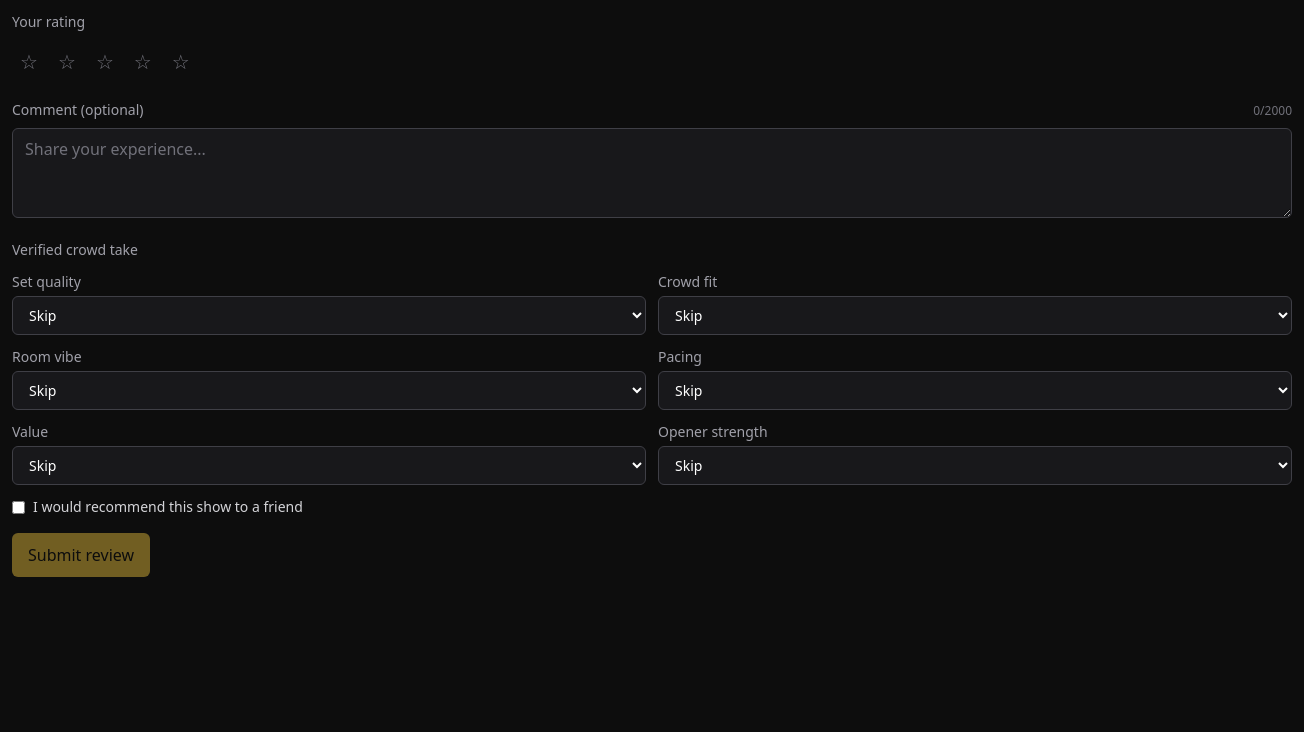
it: EventRatingForm › shows error on API failure
The width and height of the screenshot is (1304, 732).
Click the button named "Rate 3 out of 5" at (105, 62), box [88,40,122,84]
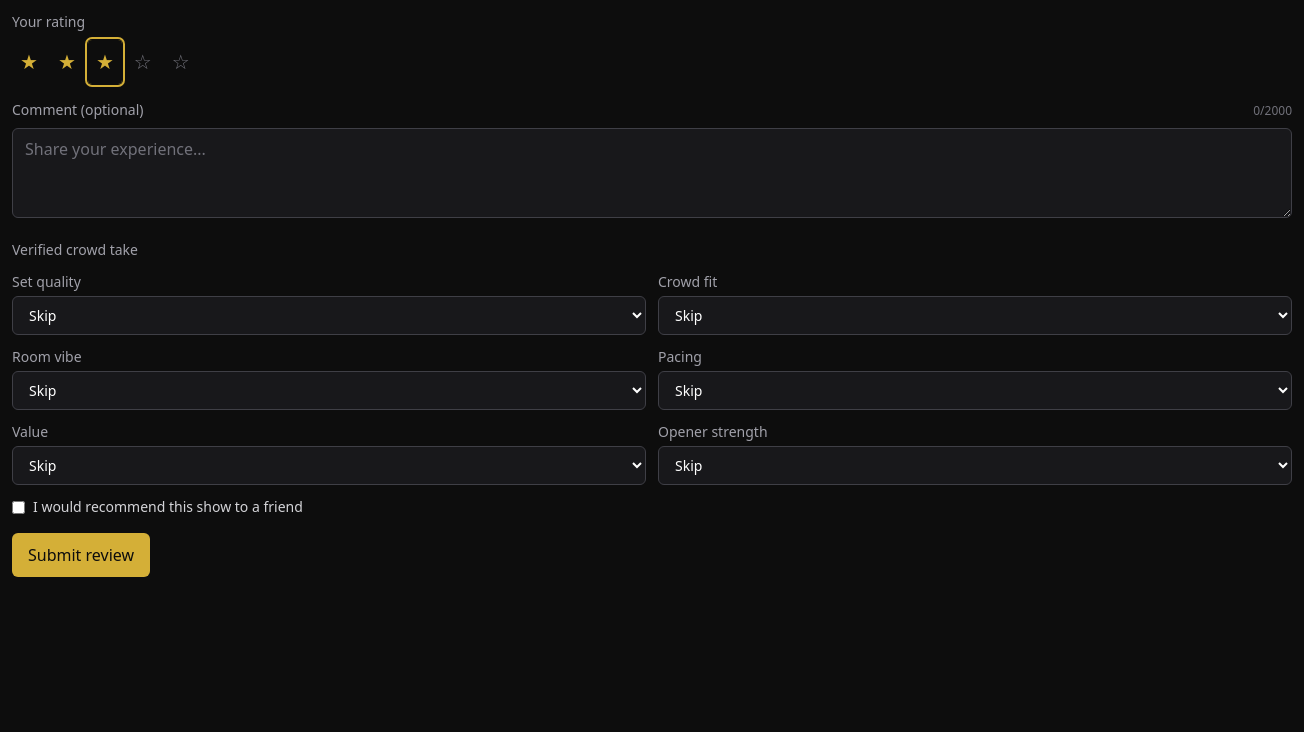
Click the button "Submit review" at (81, 555), box [12,533,150,577]
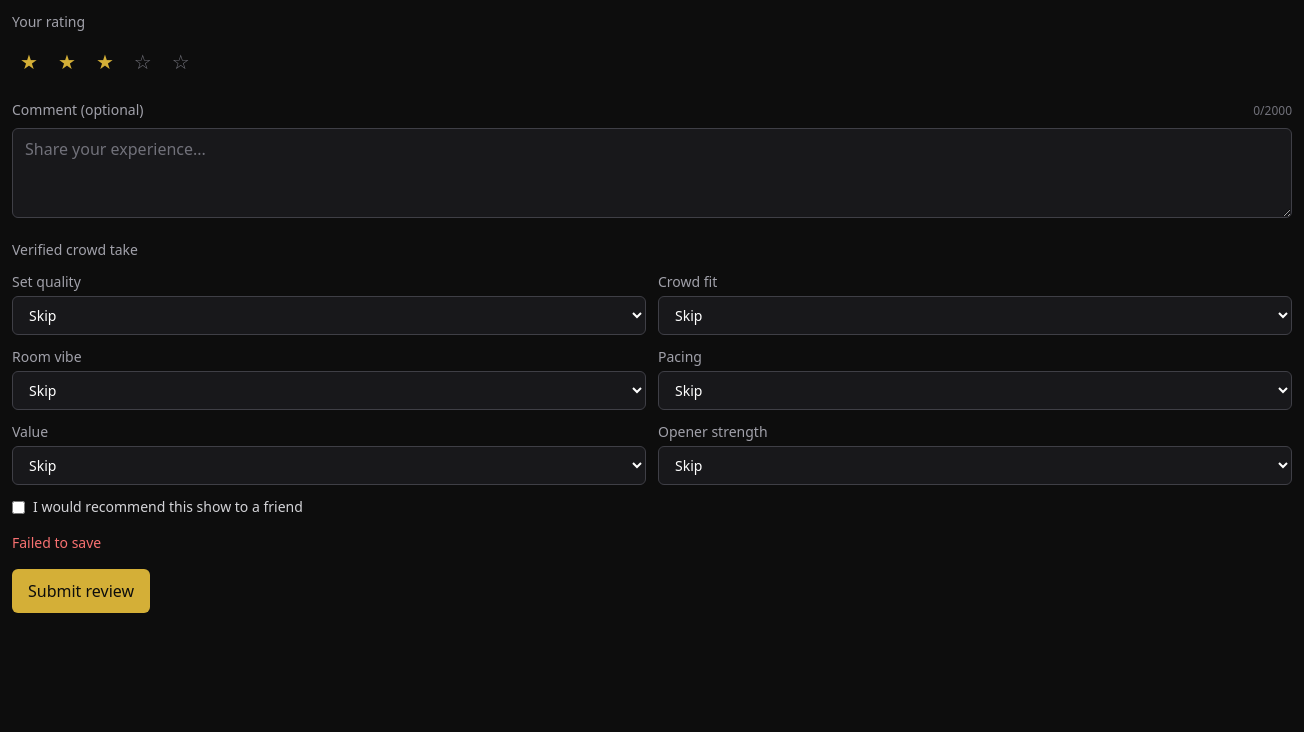
Now the message reads "Failed to save", box [12,533,101,552]
